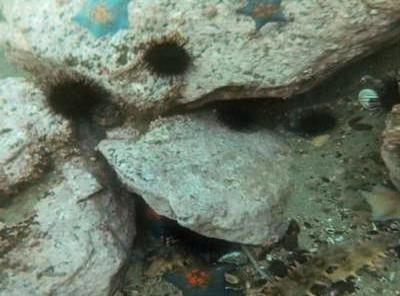urchin: (45, 72, 109, 116), (138, 39, 196, 81), (221, 98, 257, 130), (301, 105, 339, 133)
